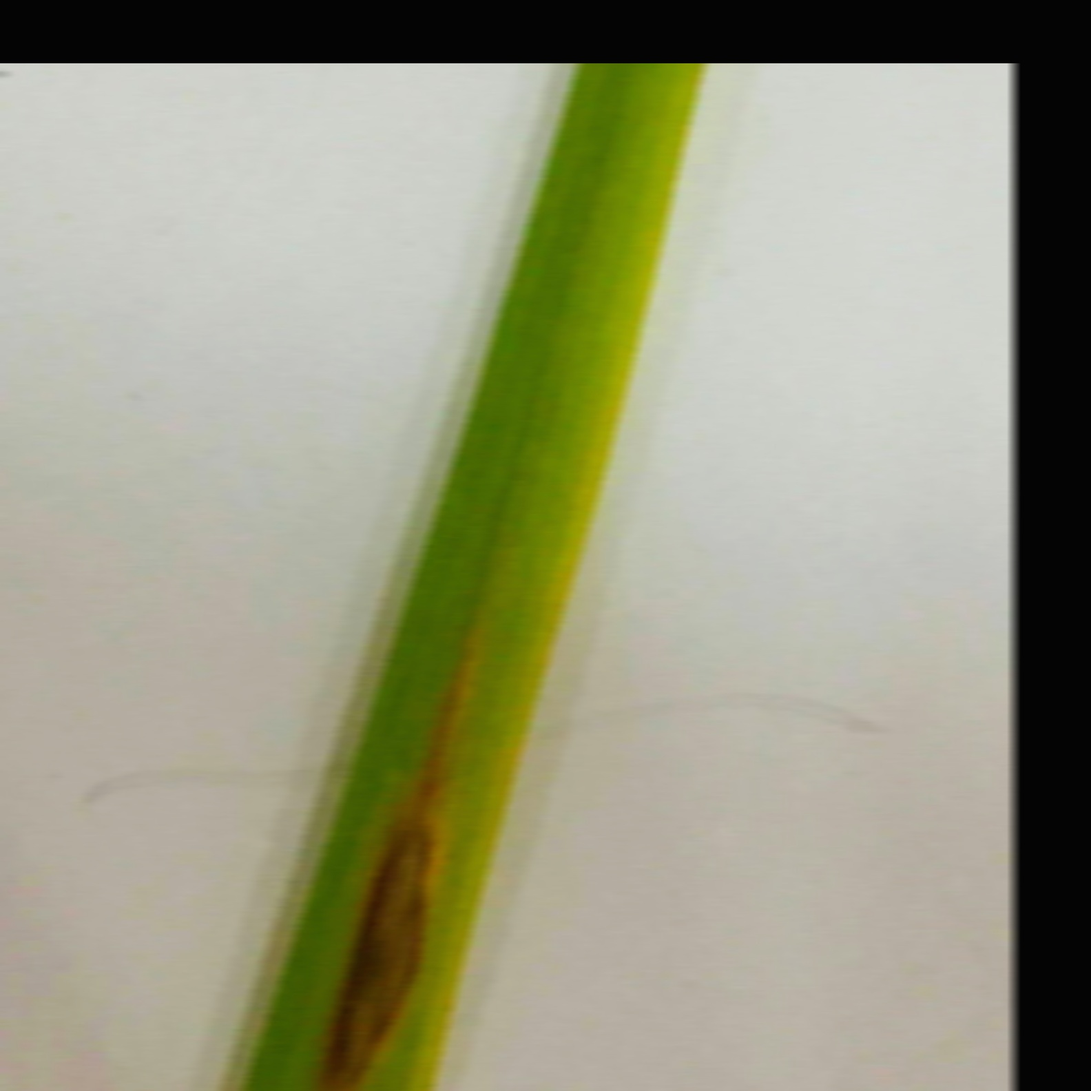Brown_Spot: (310, 738, 437, 1091)
